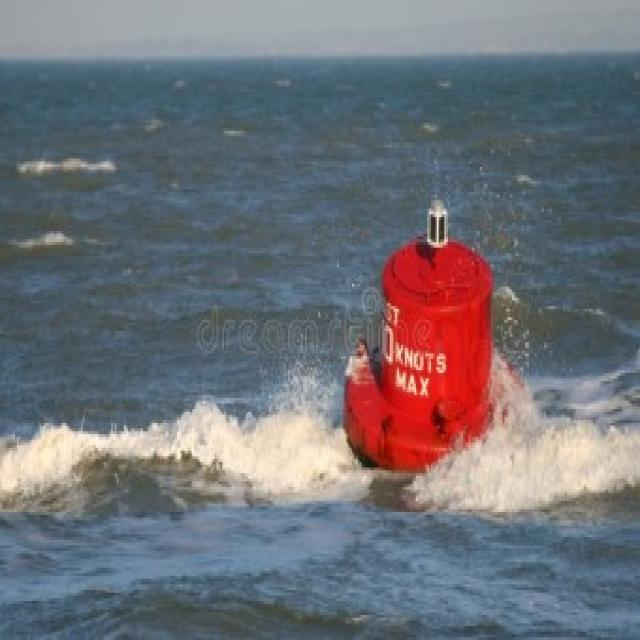2.1 lateral mark -P-: (337, 171, 502, 489)
